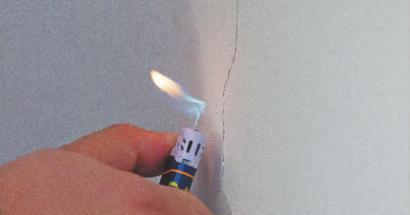fire: (144, 58, 210, 127)
